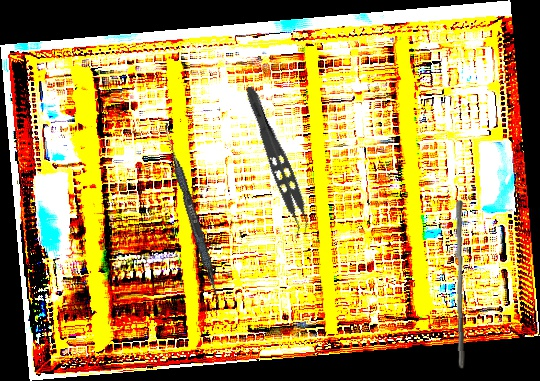Pusher: (449, 199, 472, 370)
Spatula Surgical: (157, 122, 227, 305)
Tissue Forceps: (232, 84, 318, 240)
